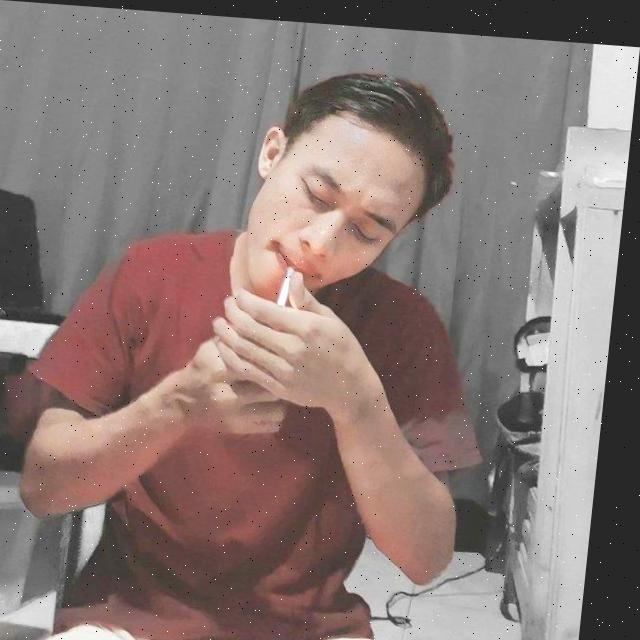cigarette: (284, 263, 301, 304)
